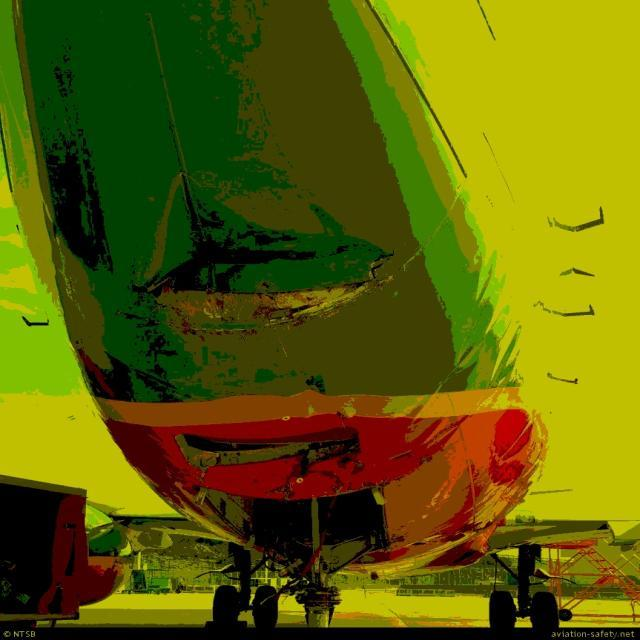dent: (153, 172, 387, 290)
